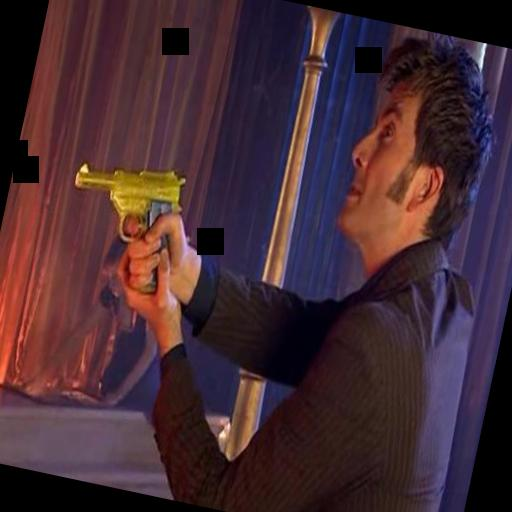Handgun: (50, 146, 188, 298)
